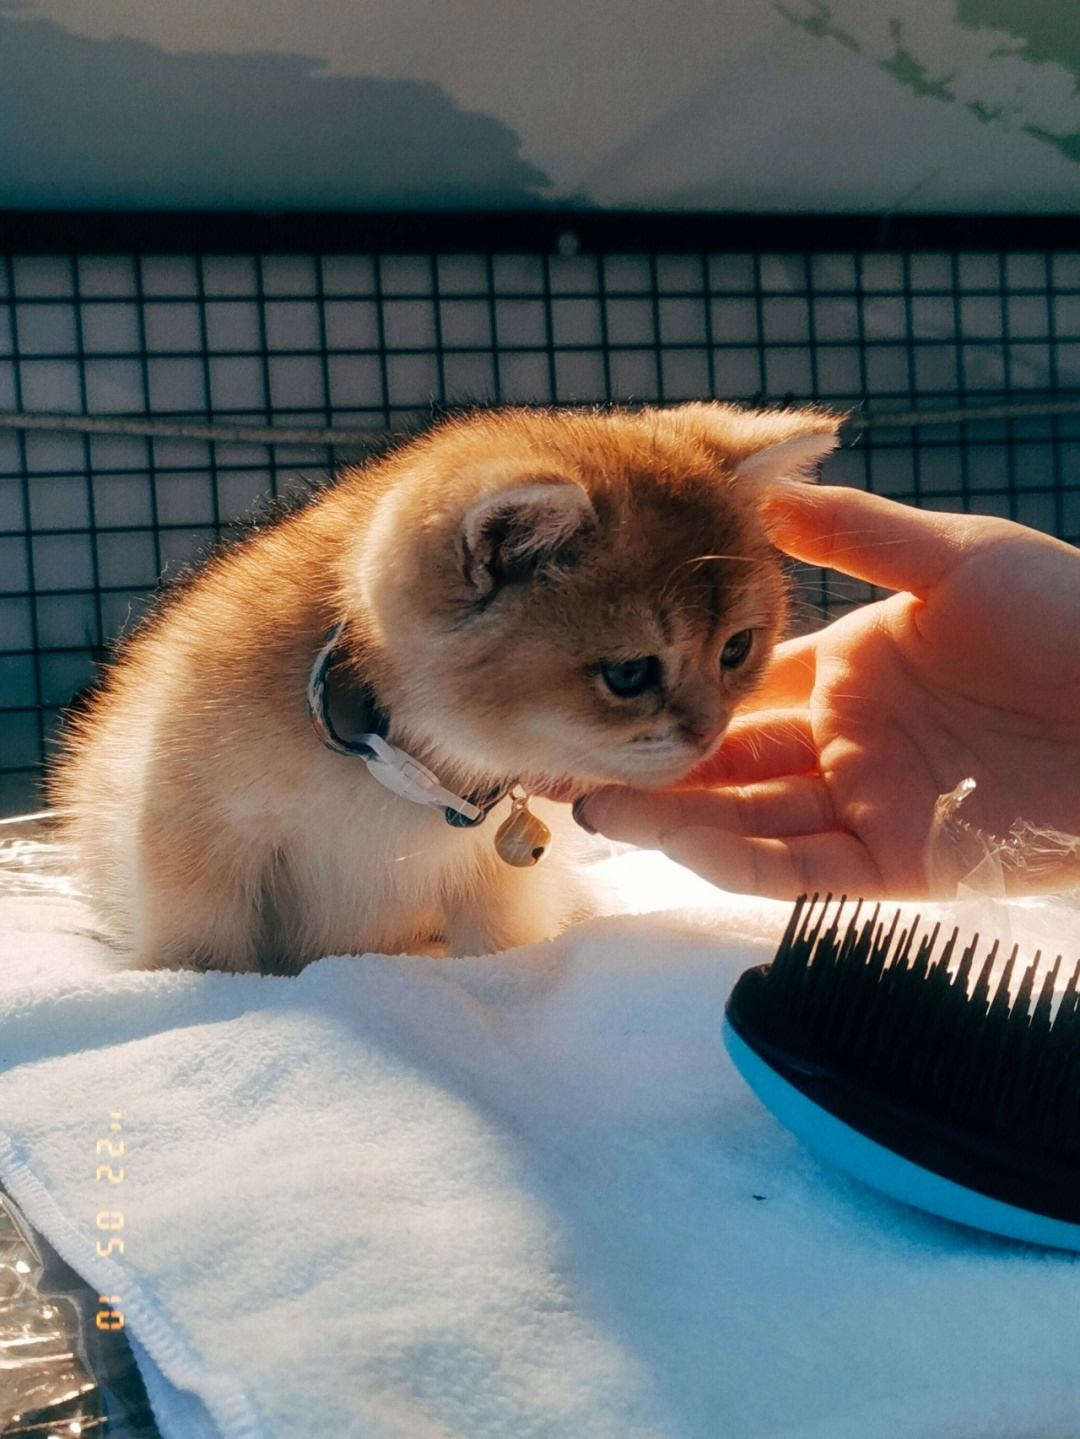cat: (45, 391, 841, 993)
